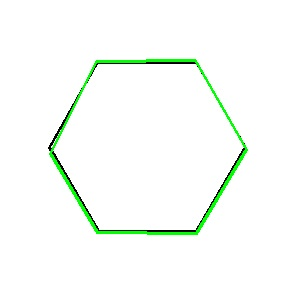line_segment: (48, 60, 247, 234)
